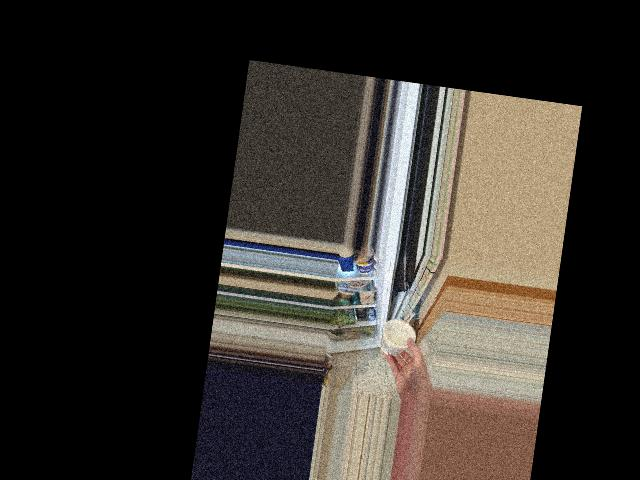cotage: (381, 318, 414, 356)
